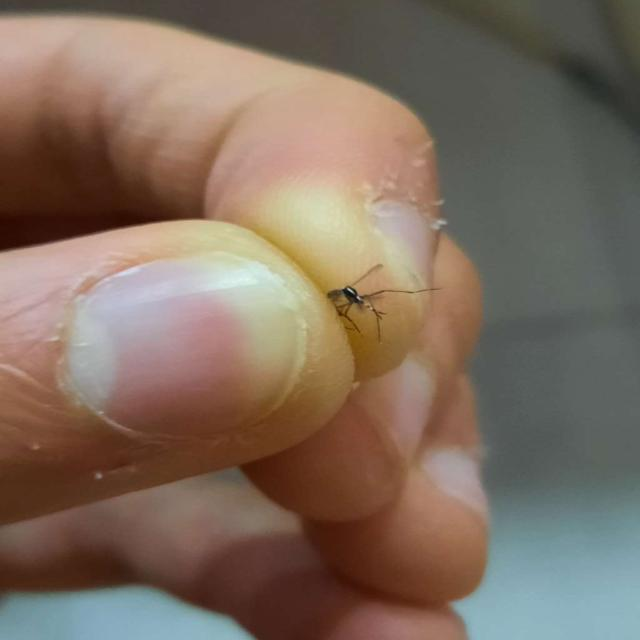albopictus: (320, 255, 439, 344)
